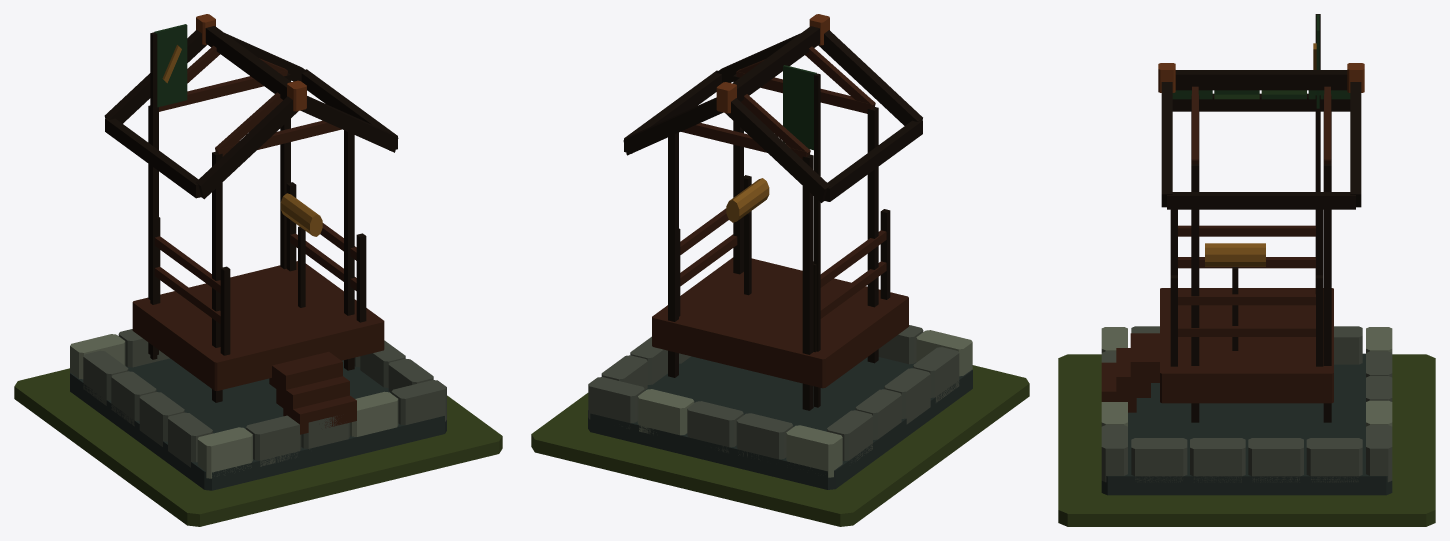
File: scout_post_t1.glb
3 renders of one model, left to right at view 1: azimuth 30°, elevation 25°; view 2: azimuth 150°, elevation 25°; view 3: azimuth 270°, elevation 25°, orthographic. The views are drawn at different scales.
Parts seen in each view (by area): view 1: MMR | scout_post | T01 Architecture.001, MMR | scout_post | Tier 01 Ground.001; view 2: MMR | scout_post | T01 Architecture.001, MMR | scout_post | Tier 01 Ground.001; view 3: MMR | scout_post | T01 Architecture.001, MMR | scout_post | Tier 01 Ground.001.
Part boxes in pixels (<box>): MMR | scout_post | T01 Architecture.001: <box>70,14,446,490</box>; MMR | scout_post | Tier 01 Ground.001: <box>14,368,502,526</box>; MMR | scout_post | T01 Architecture.001: <box>588,14,972,489</box>; MMR | scout_post | Tier 01 Ground.001: <box>531,365,1029,526</box>; MMR | scout_post | T01 Architecture.001: <box>1101,14,1392,495</box>; MMR | scout_post | Tier 01 Ground.001: <box>1058,354,1435,526</box>.
Bounding box in the file's own units: 1.3 × 1.51 × 1.3.
Materials: 1 (1 with a texture image).
